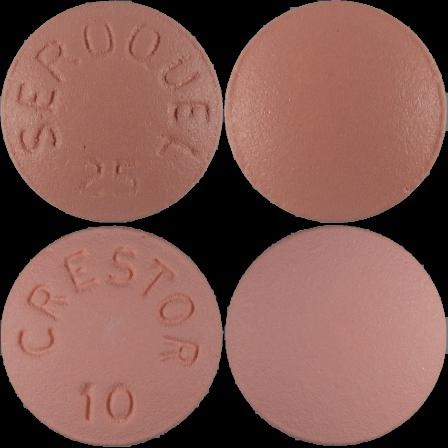54868-4961: (0, 0, 224, 224)
